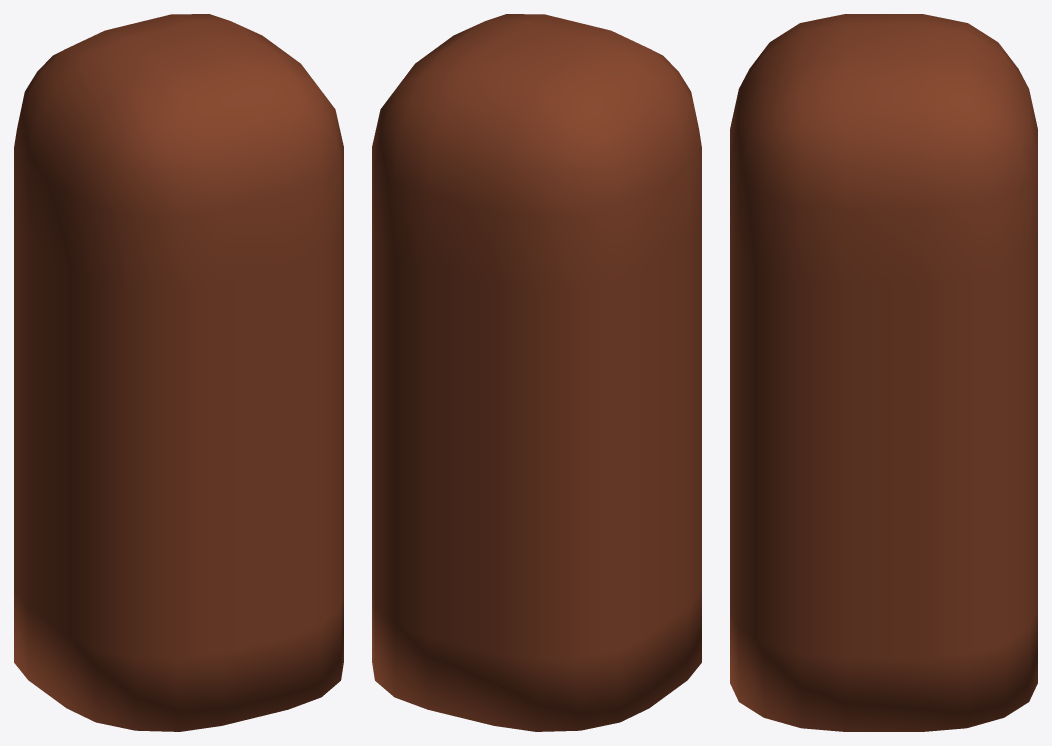
File: Mole.fbx
3 renders of one model, left to right at view 1: azimuth 30°, elevation 25°; view 2: azimuth 150°, elevation 25°; view 3: azimuth 270°, elevation 25°, orthographic.
Visible parts, largest first — view 1: Cube; view 2: Cube; view 3: Cube.
Part boxes in pixels (x1,y1,x2,y2): Cube: (14, 14, 343, 731); Cube: (372, 14, 701, 731); Cube: (730, 14, 1037, 731).
Bounding box in the file's own units: 0.0688 × 0.1543 × 0.0688.
